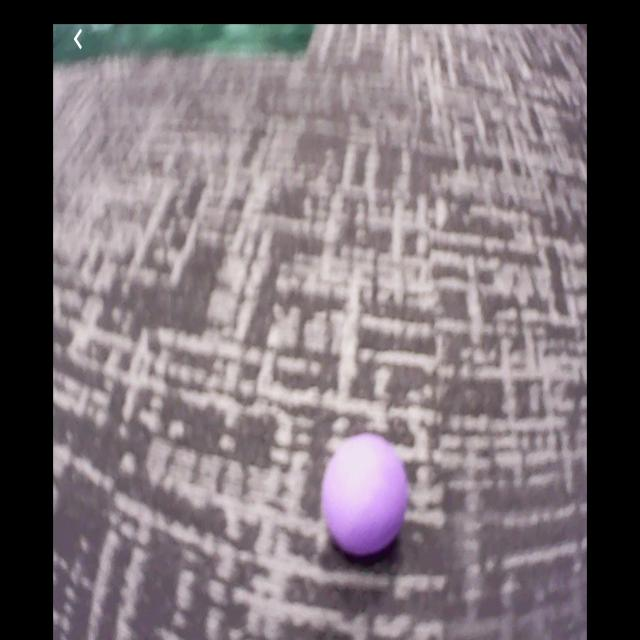ball: (325, 437, 409, 557)
